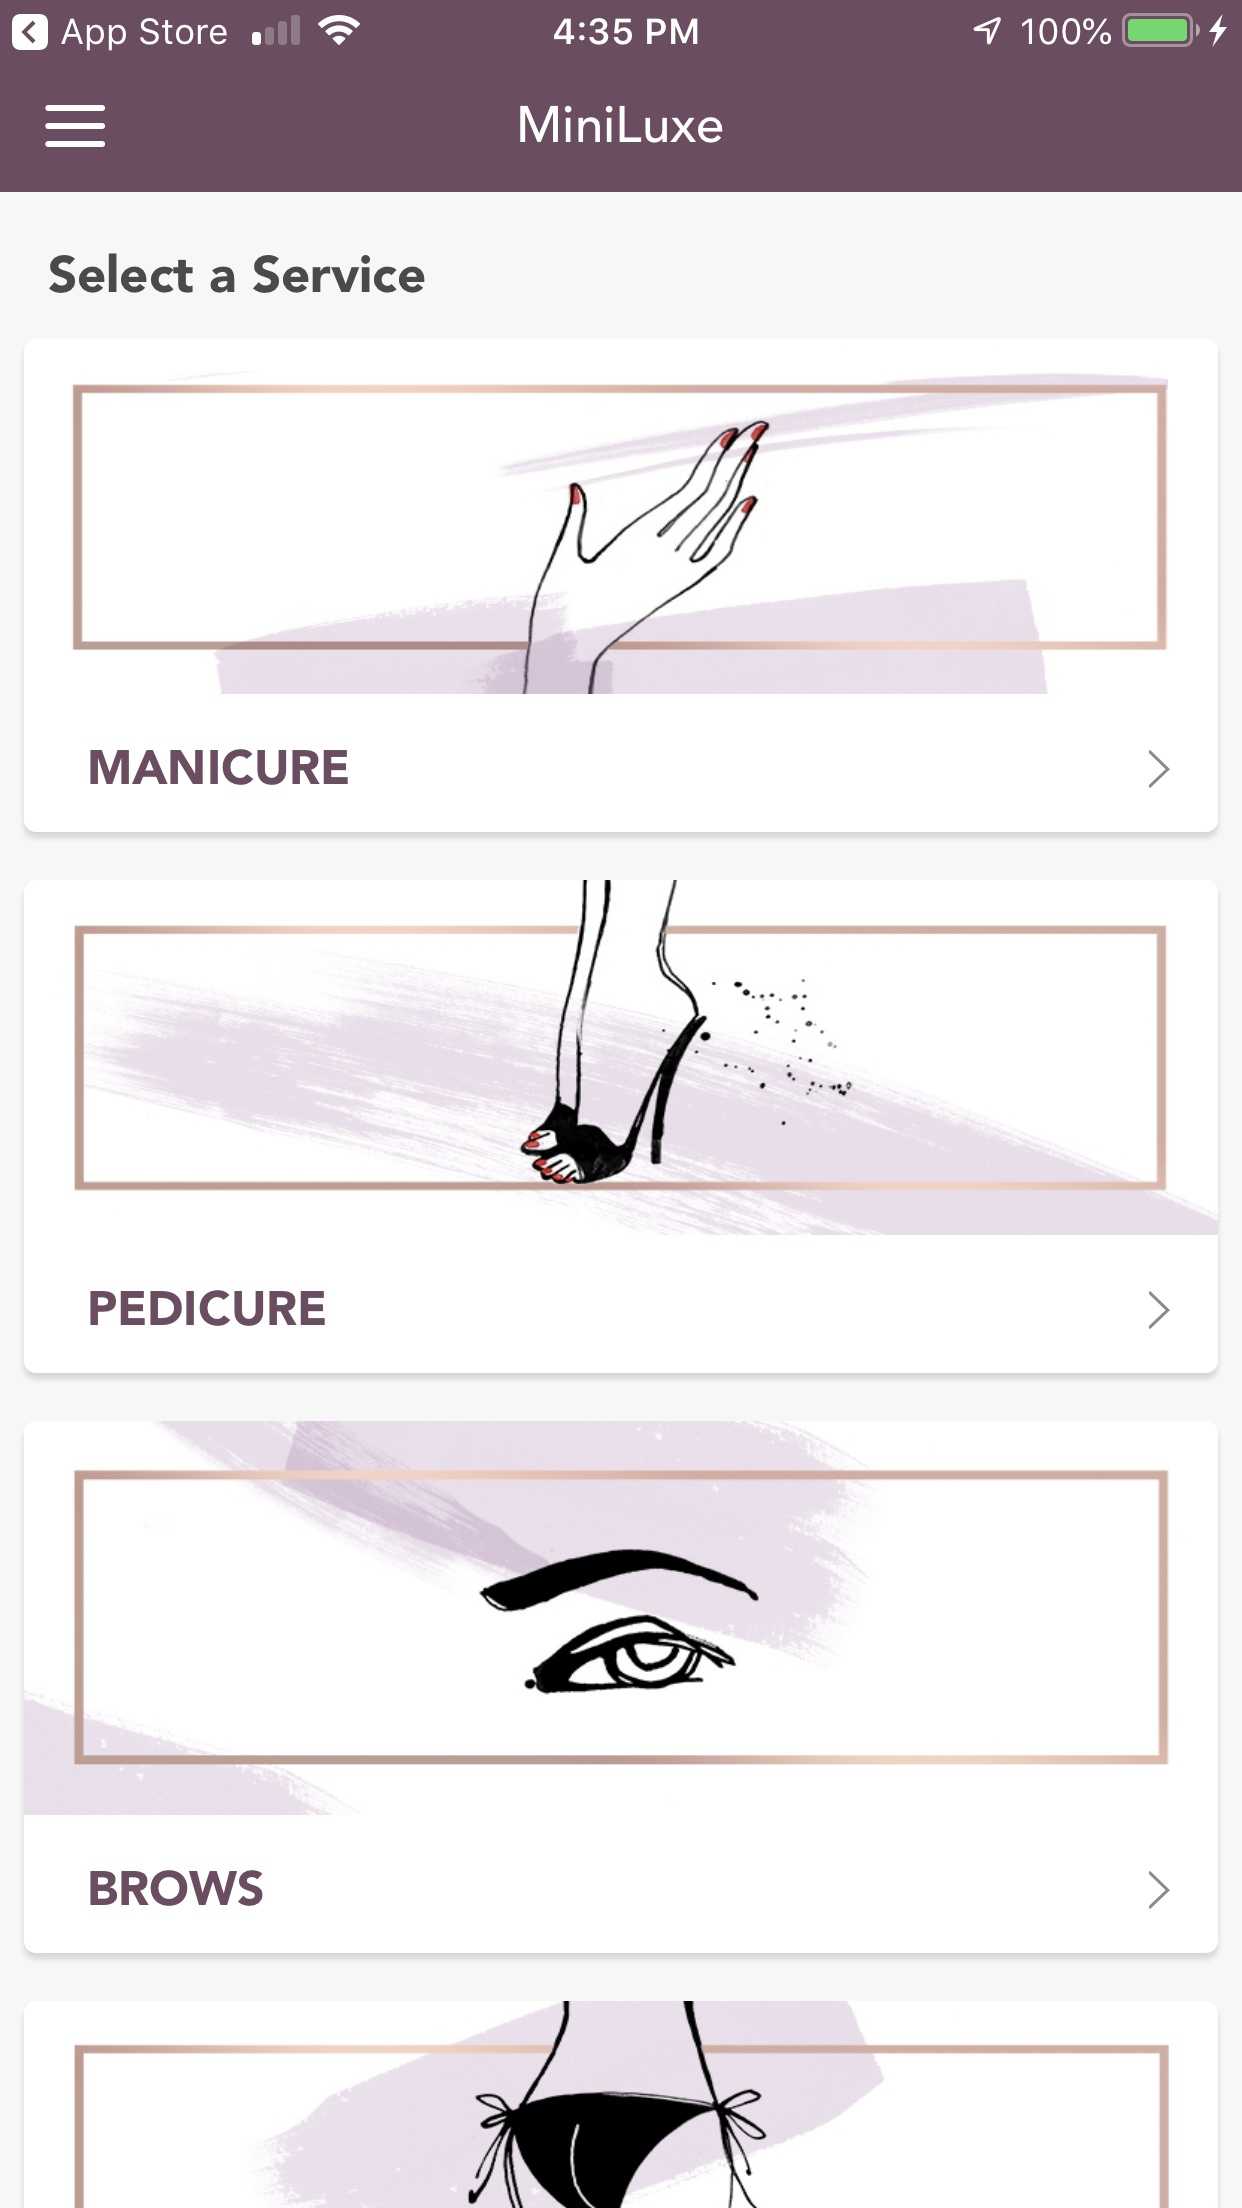Icon: (45, 105, 108, 149), (1148, 751, 1171, 790), (1148, 1291, 1171, 1330), (1149, 1870, 1171, 1909)
Image: (24, 1422, 1169, 1817), (74, 881, 1219, 1236), (71, 373, 1168, 695), (74, 2002, 1171, 2208)
Text: (49, 253, 426, 296), (91, 748, 350, 786), (89, 1289, 325, 1327), (519, 103, 720, 143), (89, 1868, 264, 1908)
UpperTaskBar: (2, 2, 1242, 52)
